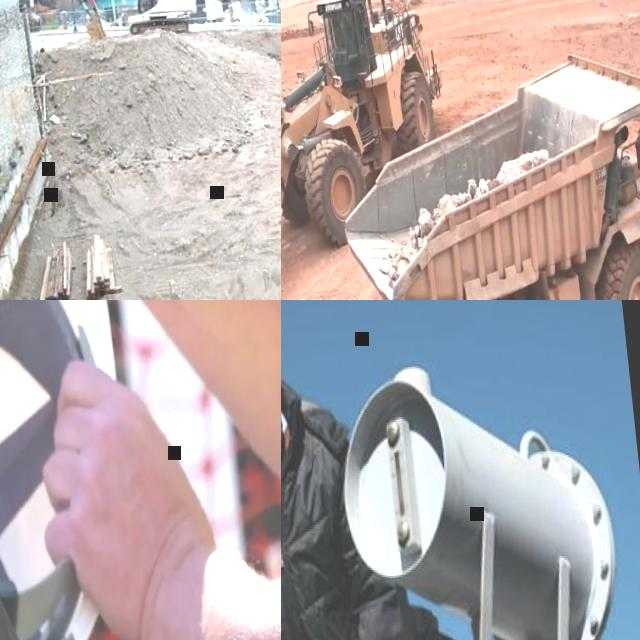helmet: (0, 300, 148, 640)
machinery: (328, 42, 640, 300), (281, 0, 459, 267), (64, 0, 200, 47)
no_vest: (281, 401, 368, 640)
person: (0, 300, 281, 640), (281, 300, 435, 640)
vehicle: (227, 4, 269, 26)
